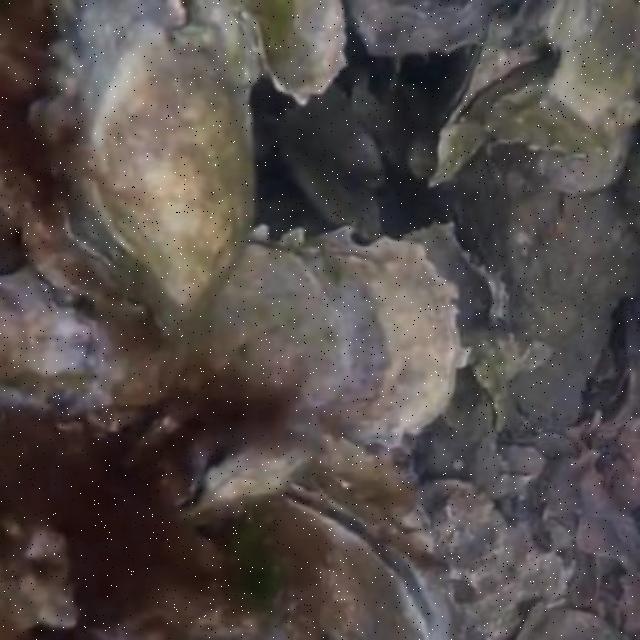Oyster-Closed: (48, 15, 256, 324), (169, 244, 474, 443)
Oyster-Open: (100, 477, 436, 638), (178, 450, 301, 525)
